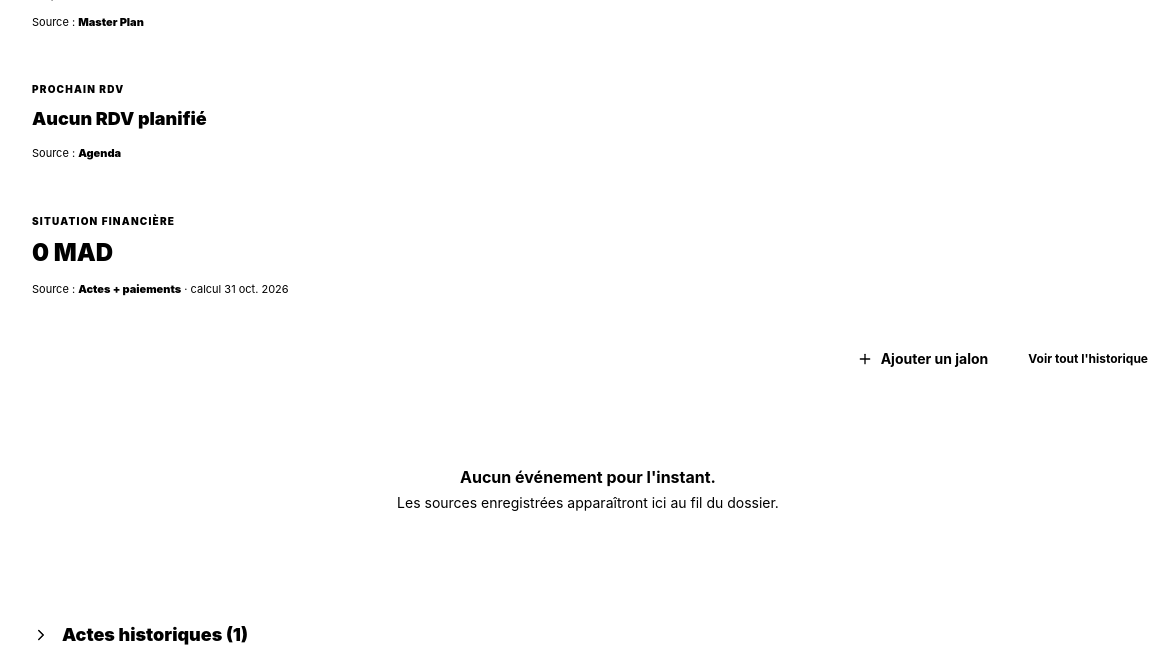
Test: PatientJourney › renders LegacyActeNotes only when the patient has legacy Acte rows
(page scrolled)
Check: the heading "Actes historiques (1)" is shown, box [62,621,248,649]
// Section repliée par défaut : la carte n'apparaît qu'après dépliage
Click the button "Actes historiques (1)".
click(147, 634)  # box [12,601,1164,668]
(page scrolled)
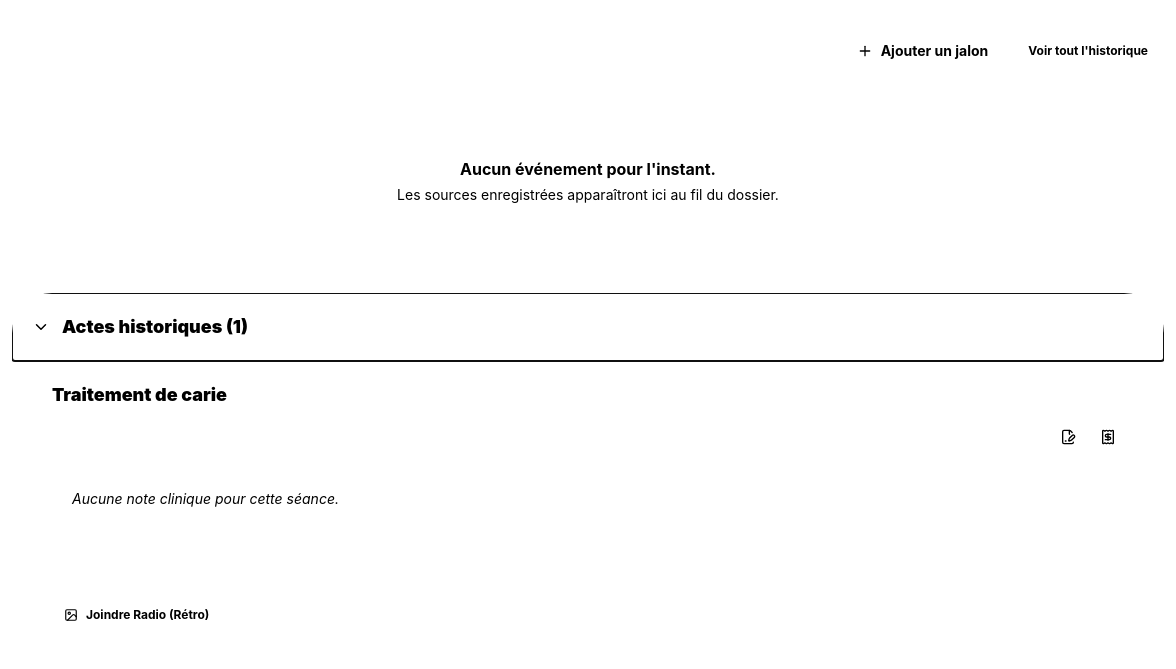
Check: the heading "Traitement de carie" is shown, box [52,384,227,405]
Check: the text "Aucune note clinique pour cette séance." is shown, box [72,490,339,507]
